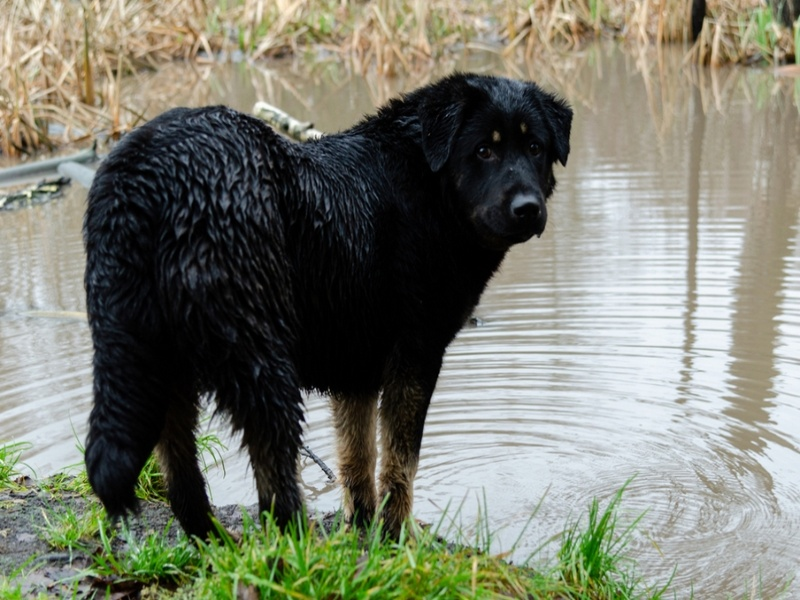dog: (79, 67, 580, 561)
